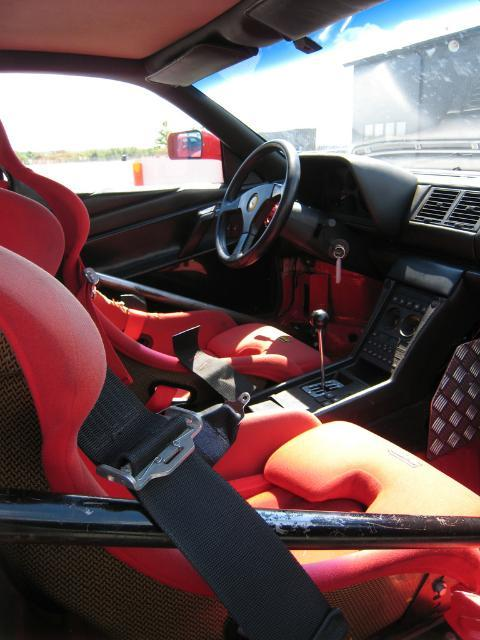Seatbelt: (78, 368, 354, 640)
